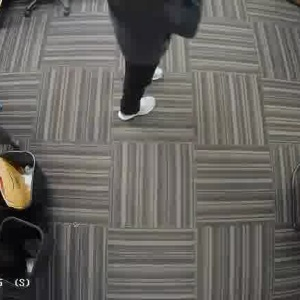person: (103, 0, 211, 124)
